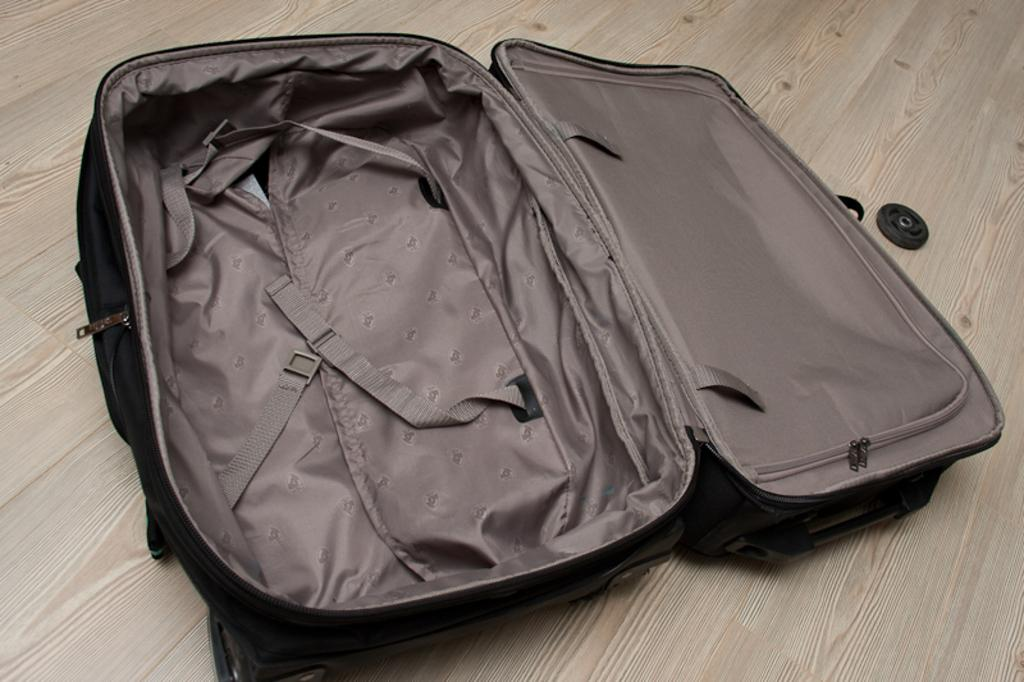Luggage-and-bags: (78, 35, 1012, 681)
